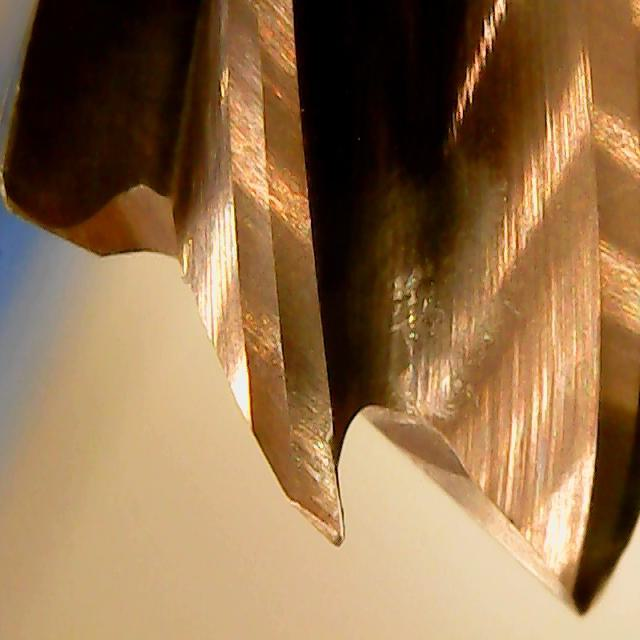Tool-wear-class-1: (232, 243, 370, 553)
